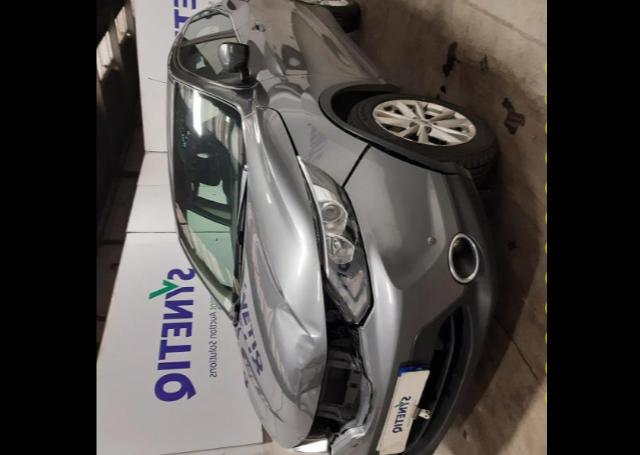Broken part: (238, 104, 330, 448), (318, 94, 474, 178), (298, 158, 374, 328), (338, 142, 374, 188)
Dent: (294, 334, 328, 420), (362, 218, 416, 264)
Missing part: (308, 280, 376, 442)
Paint chip: (350, 442, 358, 446), (338, 454, 344, 455)
